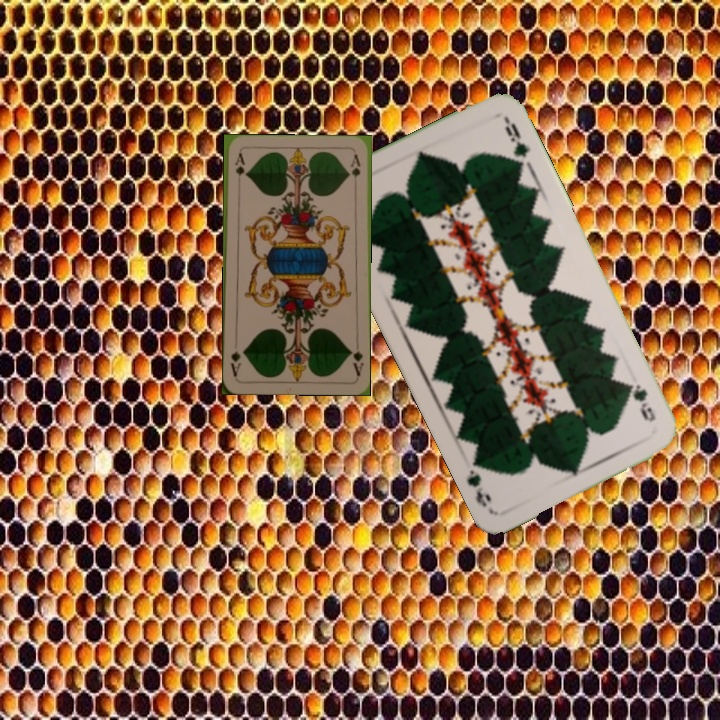G9: (622, 379, 658, 425)
GA: (346, 338, 366, 379), (231, 149, 246, 190)
